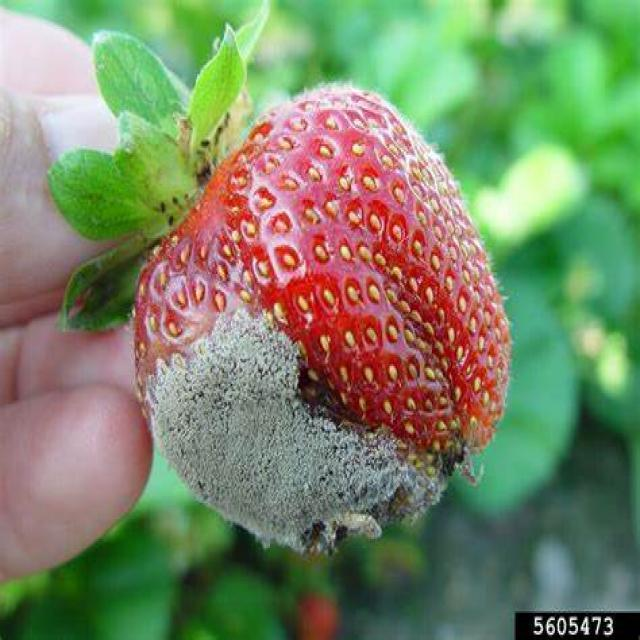Moho gris: (132, 74, 520, 559)
